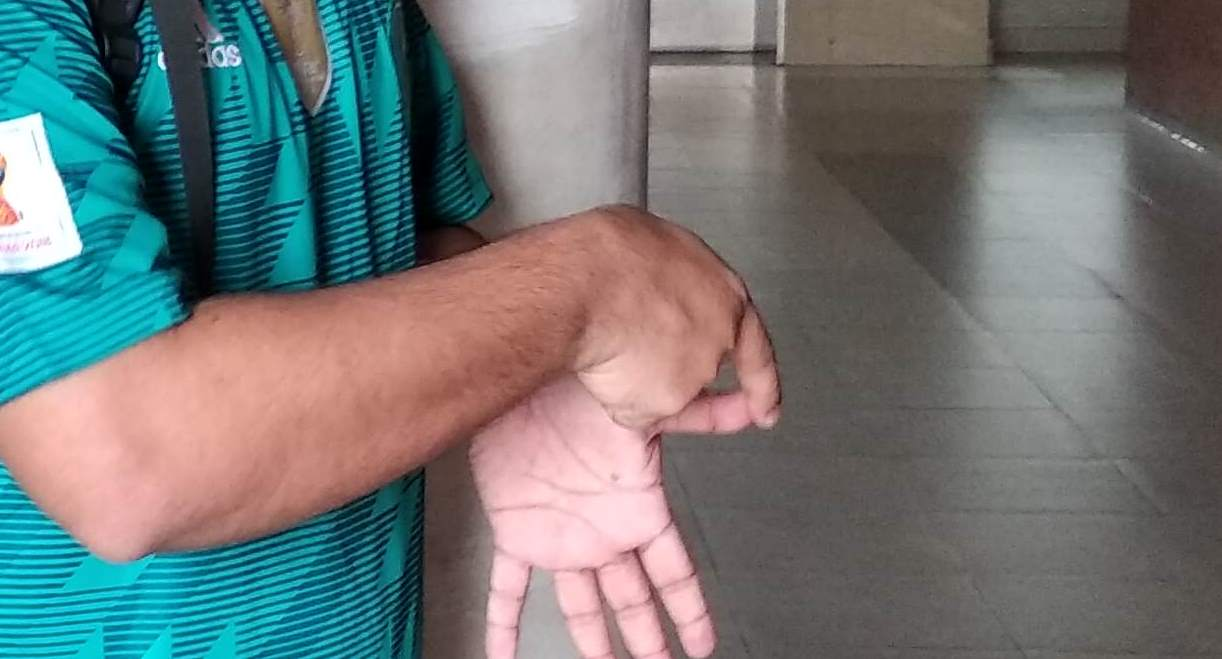a: (479, 269, 793, 659)
